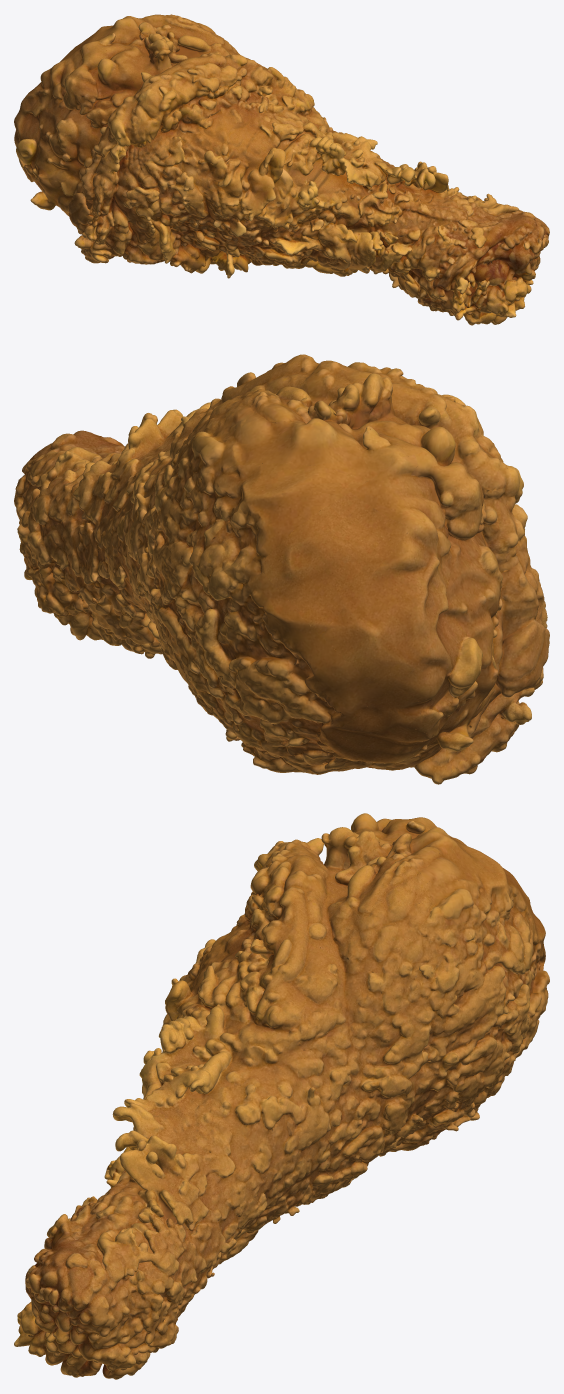
Rendered from Crispy-FriedChicken.glb.
3 views of the same model, one above another, from view 1: azimuth 30°, elevation 25°; view 2: azimuth 150°, elevation 25°; view 3: azimuth 270°, elevation 25° (orthographic). The views are drawn at different scales.
Visible parts, largest first — view 1: mesh_node; view 2: mesh_node; view 3: mesh_node.
Boxes of the visible parts, box(x1,y1,x2,y2) form: mesh_node: box(14, 14, 549, 325); mesh_node: box(14, 354, 549, 784); mesh_node: box(14, 813, 549, 1379).
Size of the model in its own units: 1.9 by 1.24 by 1.58.
Materials: 1 (1 with a texture image).
